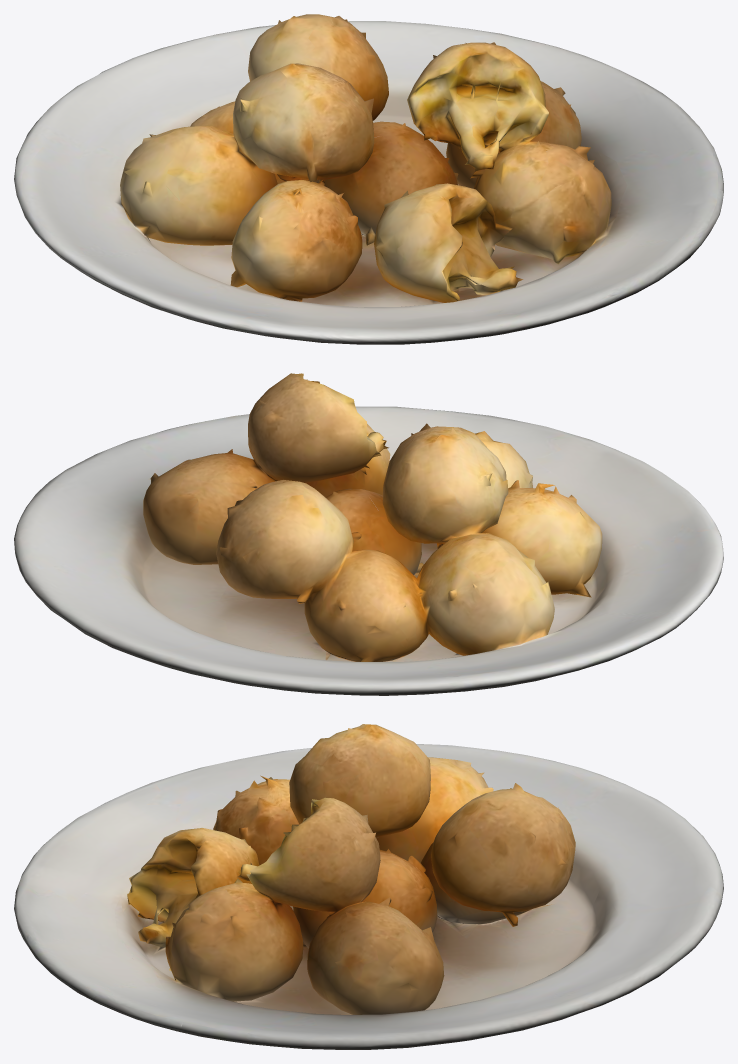
File: pao_de_queijo.glb
3 renders of one model, top to bottom at view 1: azimuth 30°, elevation 25°; view 2: azimuth 150°, elevation 25°; view 3: azimuth 270°, elevation 25°, orthographic.
Parts seen in each view (by area): view 1: tripo_node_dfdae7a4-2fa5-4056-a93e-03dc59808647; view 2: tripo_node_dfdae7a4-2fa5-4056-a93e-03dc59808647; view 3: tripo_node_dfdae7a4-2fa5-4056-a93e-03dc59808647.
Part boxes in pixels (<box>): tripo_node_dfdae7a4-2fa5-4056-a93e-03dc59808647: <box>14,14,723,344</box>; tripo_node_dfdae7a4-2fa5-4056-a93e-03dc59808647: <box>14,373,723,695</box>; tripo_node_dfdae7a4-2fa5-4056-a93e-03dc59808647: <box>14,724,723,1049</box>.
Bounding box in the file's own units: 1 × 0.2912 × 0.9994.
Materials: 1 (1 with a texture image).
